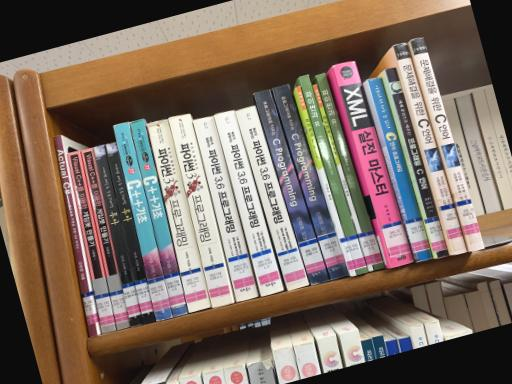book-spine: (333, 60, 414, 267), (410, 36, 484, 252), (394, 42, 467, 253), (254, 89, 329, 285), (273, 84, 348, 279), (299, 74, 368, 274), (235, 105, 308, 291), (316, 72, 384, 270), (214, 109, 283, 297), (168, 113, 234, 308), (147, 119, 211, 312), (367, 77, 433, 262), (193, 115, 258, 301), (385, 67, 448, 258), (296, 86, 357, 276), (114, 122, 171, 321), (130, 118, 187, 317), (313, 84, 373, 271), (92, 144, 143, 327), (104, 141, 155, 324), (53, 134, 97, 337), (80, 147, 129, 329), (67, 150, 115, 333)
